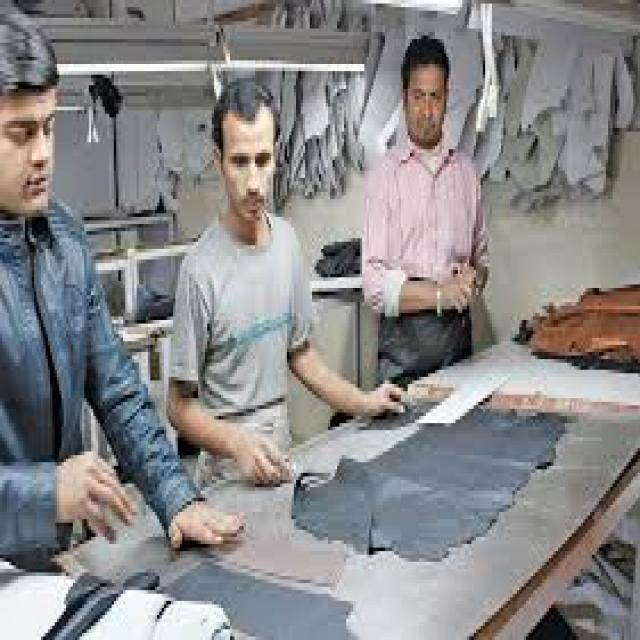Jacket: (6, 206, 209, 536)
